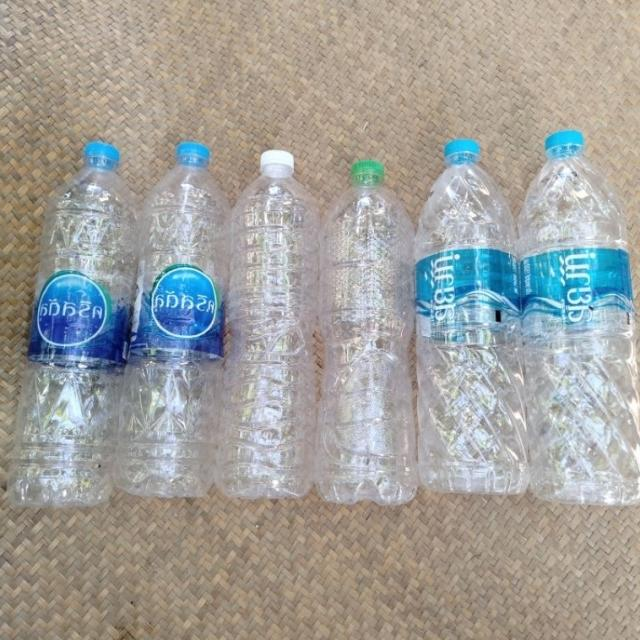plastik: (7, 141, 136, 506), (519, 129, 640, 505), (415, 138, 530, 494), (115, 141, 230, 497), (216, 150, 319, 498), (316, 159, 417, 504)
